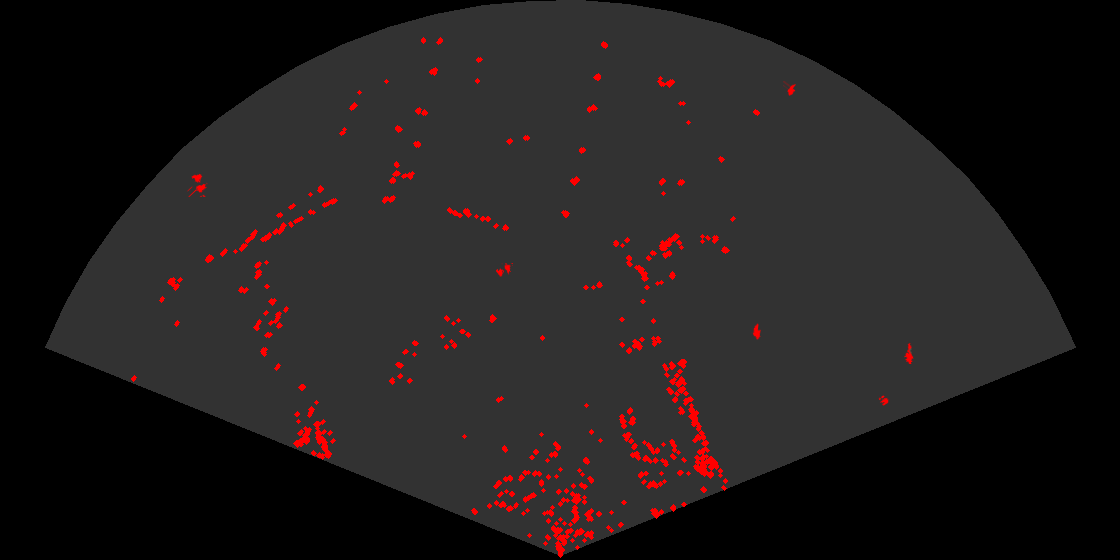AUV: (783, 81, 797, 97), (751, 322, 762, 341)
ball: (877, 394, 890, 407)
cage: (186, 172, 209, 197), (494, 263, 513, 278)
frogman: (903, 341, 915, 364)
